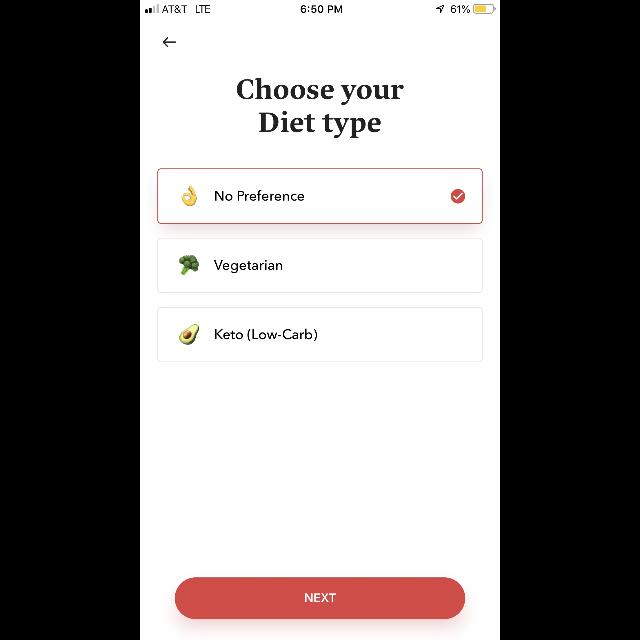checkbox: (451, 190, 465, 202)
icon: (164, 37, 176, 47)
image: (179, 324, 199, 346), (179, 255, 199, 275), (182, 186, 196, 206)
text: (238, 78, 404, 138), (215, 328, 317, 342), (216, 190, 304, 202), (214, 260, 282, 274)
textbutton: (175, 577, 465, 619)
uppertaskbar: (140, 0, 500, 14)
